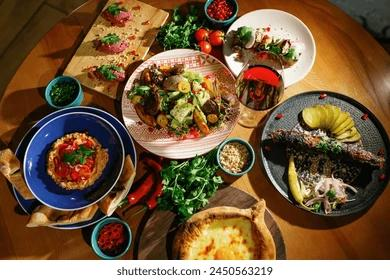Braised Crucian Carp: (259, 90, 389, 217), (121, 48, 240, 157), (20, 108, 129, 211), (222, 8, 315, 90)
